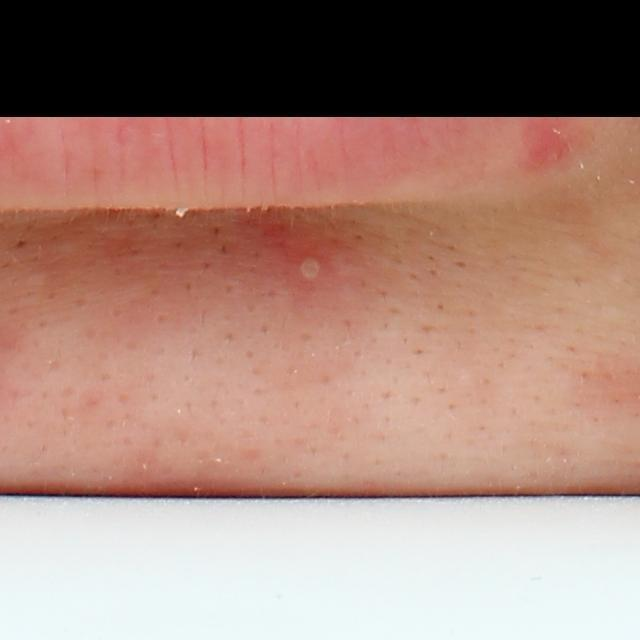papule: (520, 117, 588, 177)
pustule: (280, 236, 355, 299)
